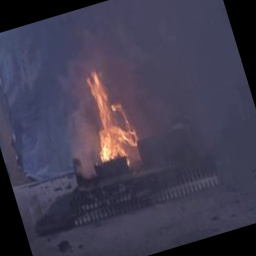fire: (71, 59, 144, 174)
